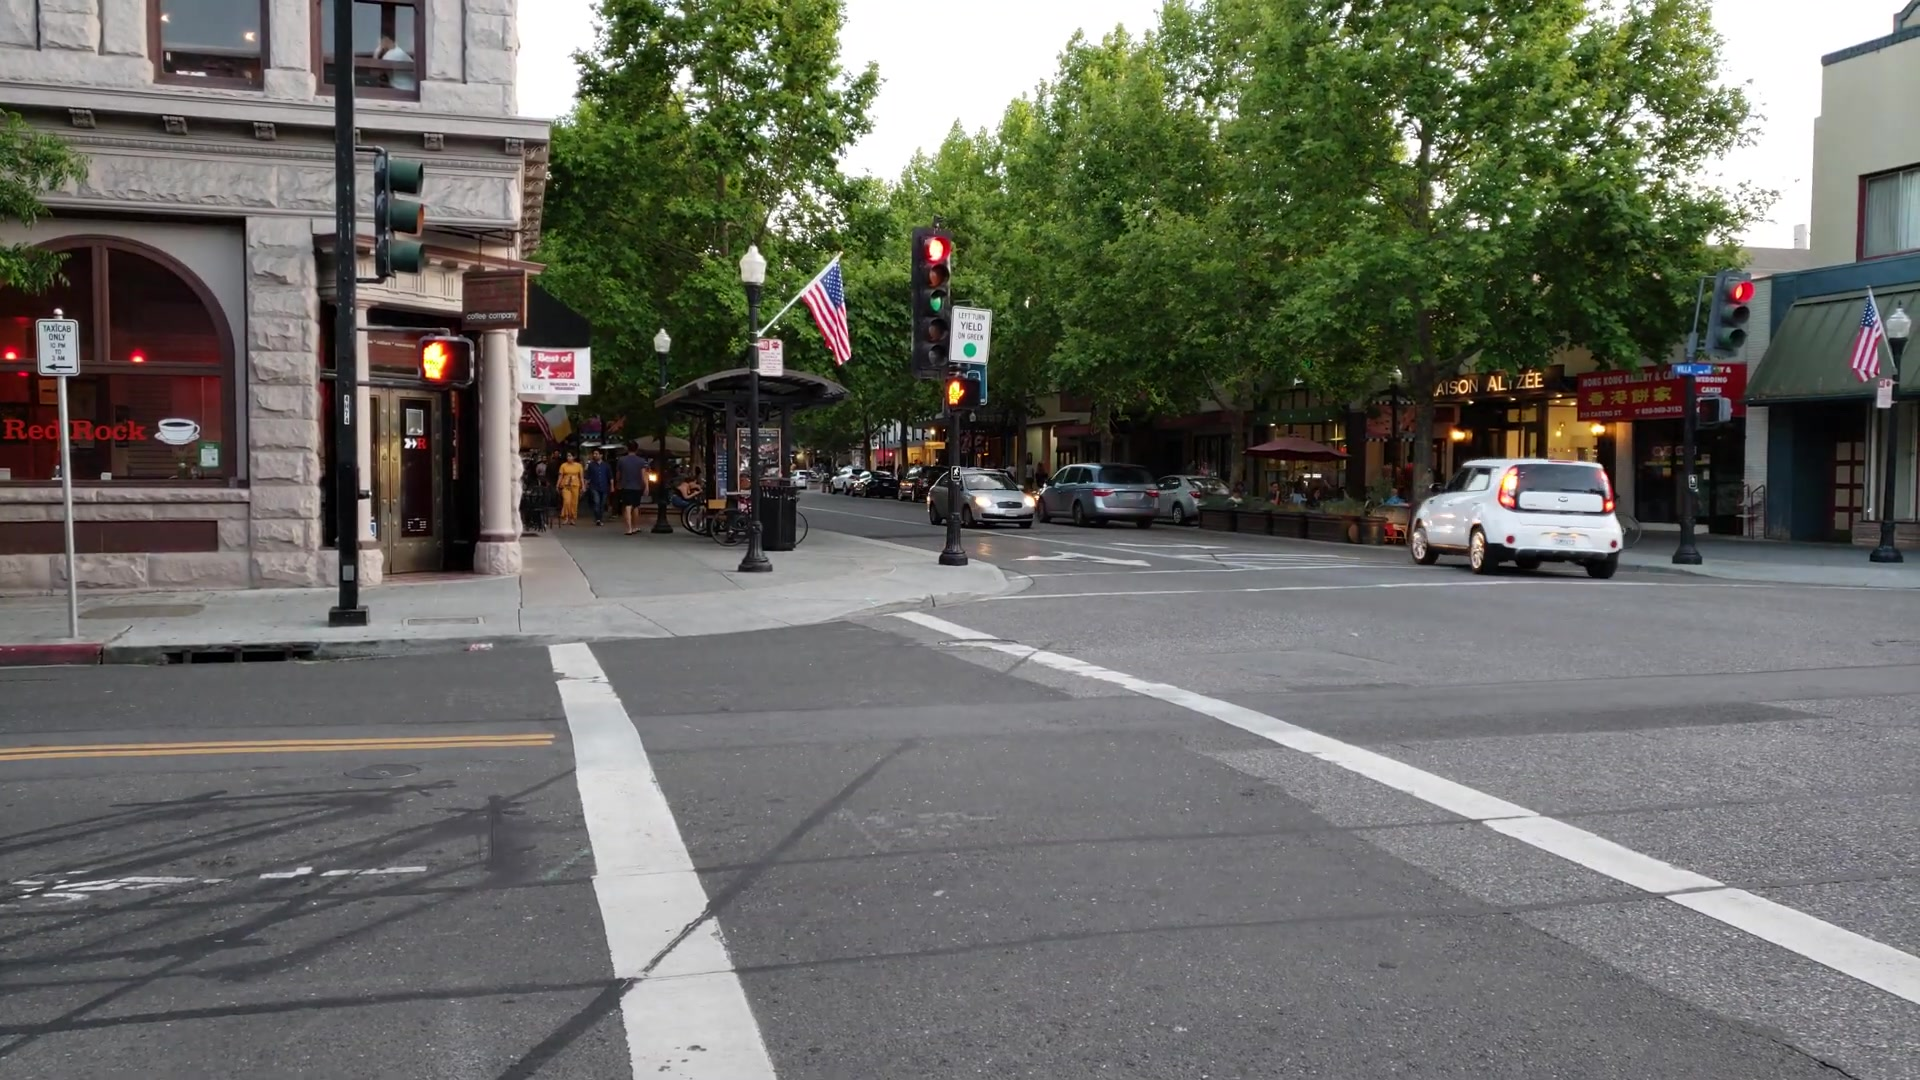vehicle: (1408, 458, 1623, 580), (1036, 462, 1160, 530), (928, 469, 1036, 526)
